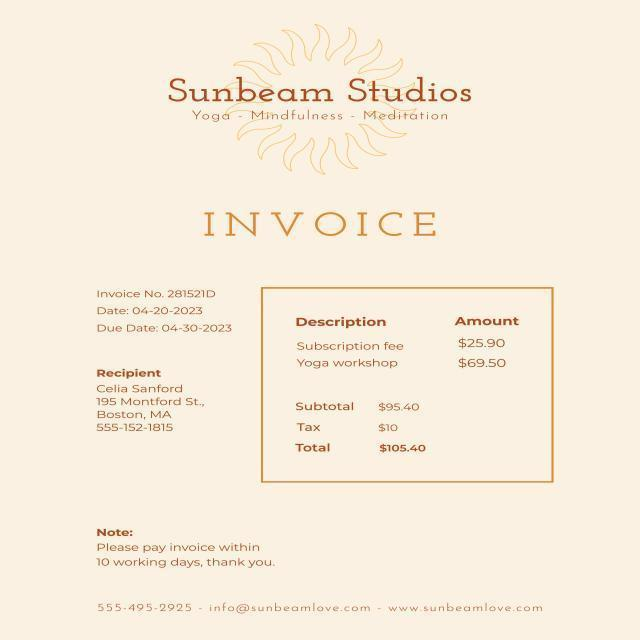ROI: (141, 17, 511, 181), (259, 301, 550, 382), (87, 587, 549, 622), (284, 391, 460, 476), (187, 199, 452, 247), (87, 364, 233, 447), (87, 524, 285, 576), (91, 281, 240, 344)
